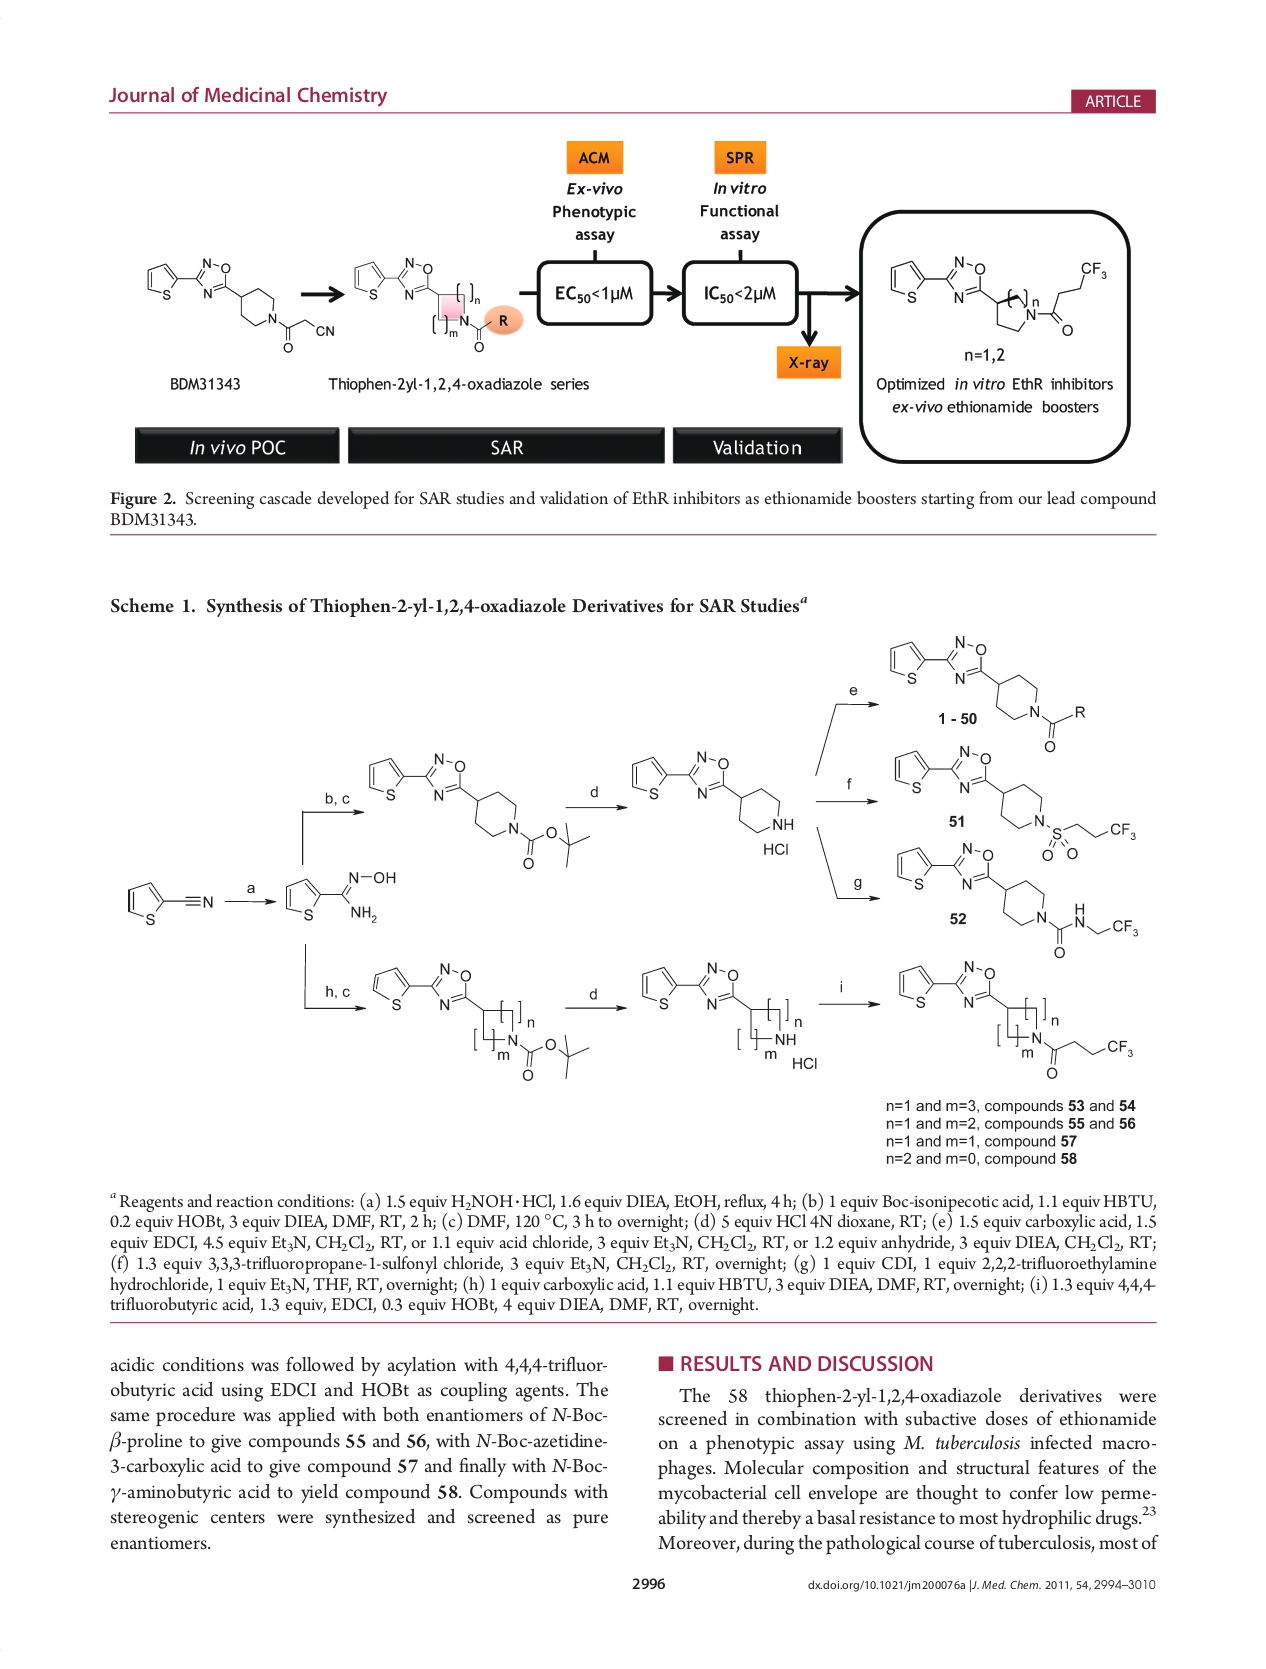exist_molecular: (894, 959, 1137, 1081), (892, 743, 1138, 863), (892, 840, 1138, 959), (367, 747, 590, 872), (368, 959, 590, 1083), (883, 632, 1088, 754), (883, 243, 1112, 344), (140, 255, 335, 356), (347, 253, 525, 356), (637, 958, 813, 1061), (629, 745, 797, 840), (283, 870, 402, 926), (122, 880, 218, 930)
